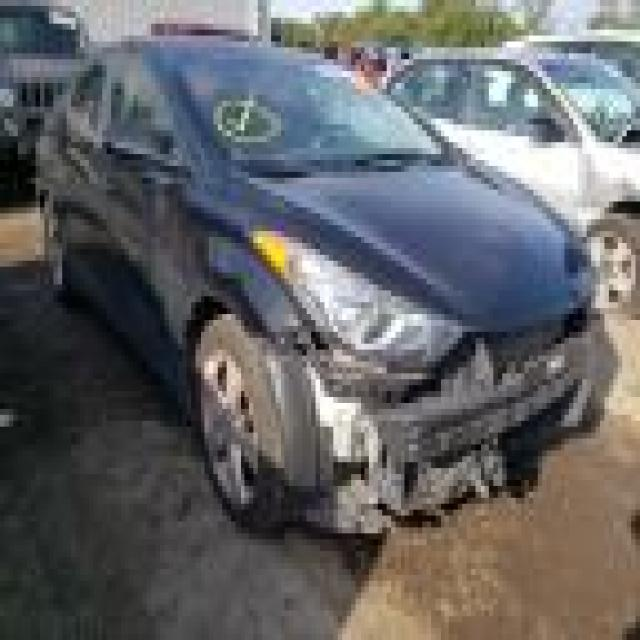moderate: (267, 249, 640, 519)
